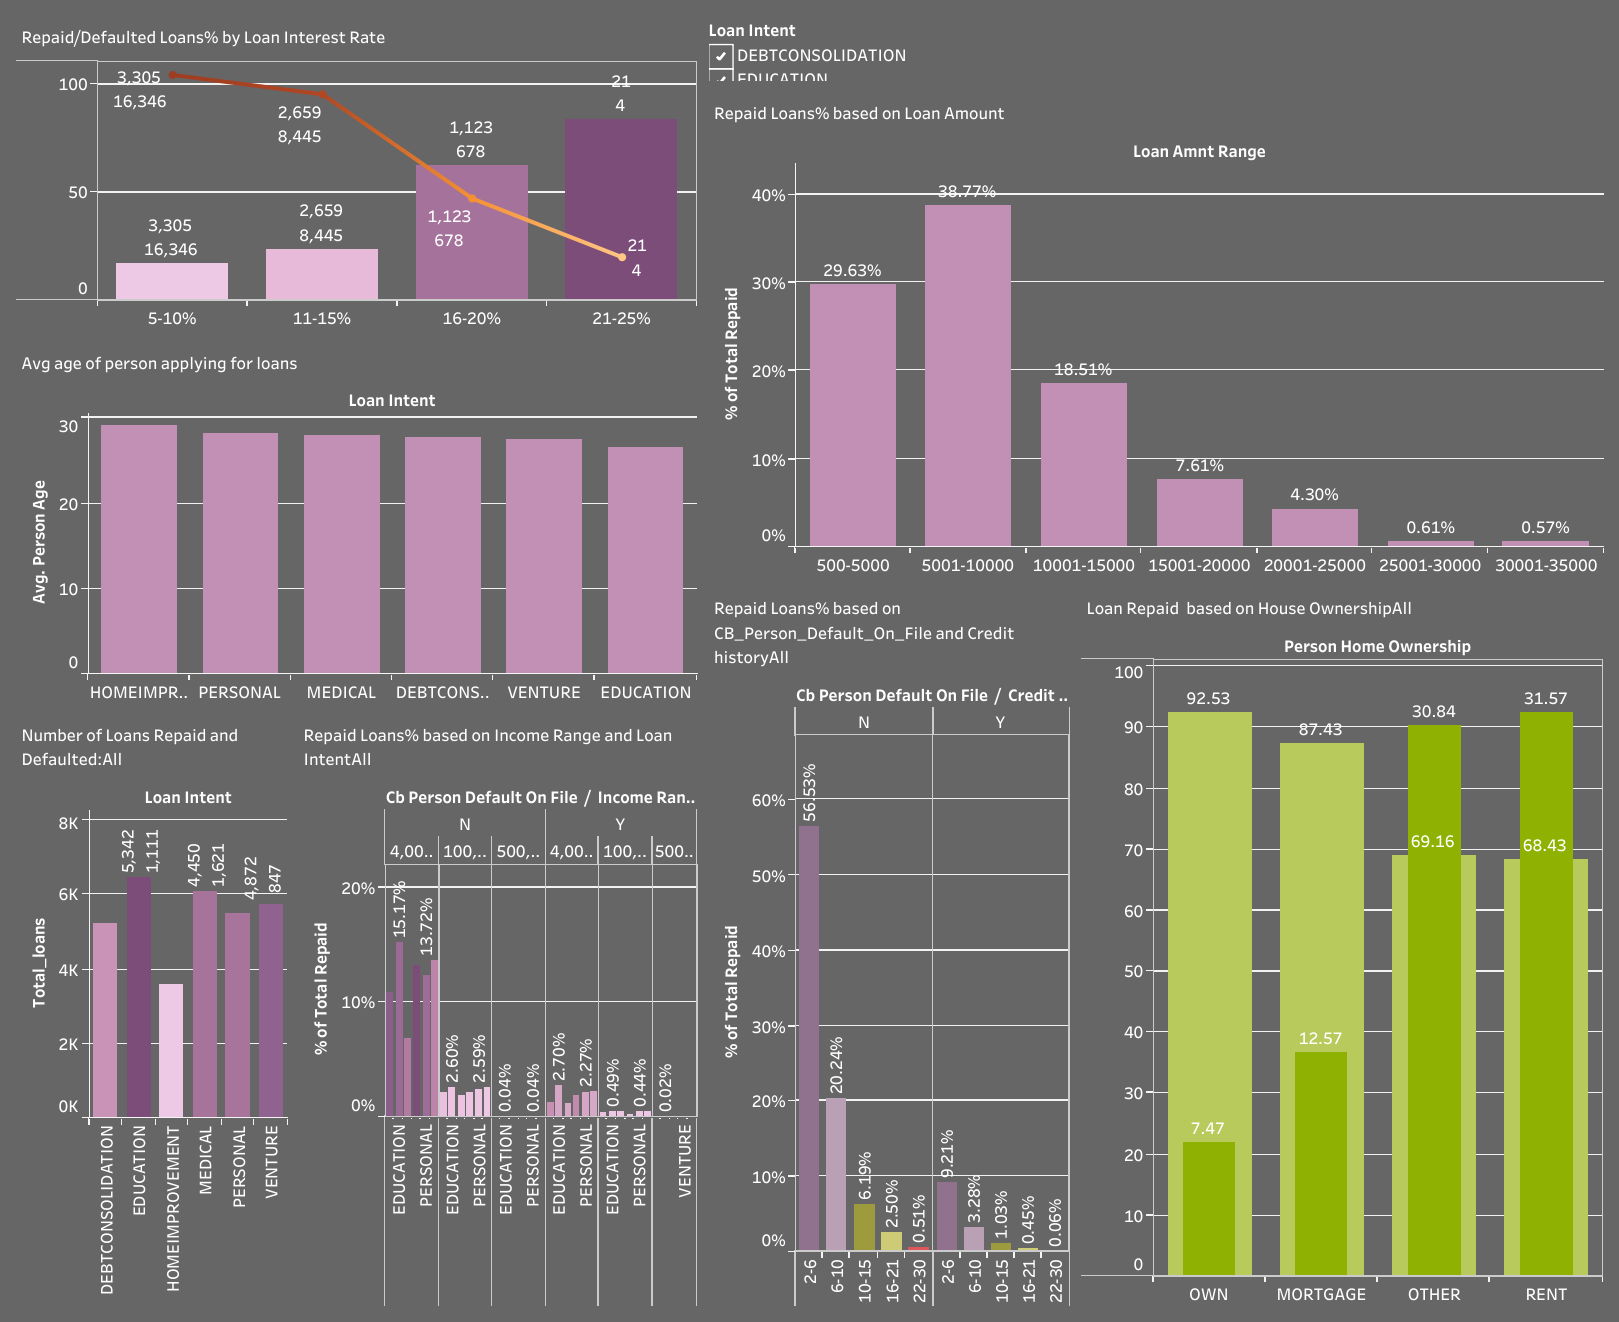

This screenshot's page, from the dashboard's own definition file:
{"tool":"tableau","page":{"name":"Dashboard 1","canvas":[1200,980],"ordinal":0},"visuals":[{"type":"worksheet","title":"Sheet 3","mark":"Bar","rows":["Calculation_1172132188703793746","Calculation_1172132188704395859"],"cols":["Calculation_1172132188705325652"],"box":[8,8,513.3,241]},{"type":"filter","title":"Sheet 4","param":"[federated.1oo56v70xbwndl1279r2p1b3k8ms].[none:loan_intent:nk]","box":[521.3,8,670.7,56.3]},{"type":"worksheet","title":"Sheet 5","mark":"Automatic","rows":["Calculation_1172132188699689549"],"cols":["Calculation_1169176701789724883"],"box":[521.3,64.3,670.7,366.4]},{"type":"worksheet","title":"Sheet 1","mark":"Automatic","rows":["person_age"],"cols":["loan_intent"],"box":[8,249,513.3,275.5]},{"type":"worksheet","title":"Sheet 6","mark":"Automatic","rows":["Calculation_1172132188699689549"],"cols":["cb_person_default_on_file","Calculation_1695253433348715269"],"box":[521.3,430.7,276,541.3]},{"type":"worksheet","title":"Sheet 4","mark":"Bar","rows":["Calculation_1172132188704395859","Calculation_1172132188703793746"],"cols":["person_home_ownership"],"box":[797.3,430.7,394.7,541.3]},{"type":"worksheet","title":"Sheet 2","mark":"Bar","rows":["Calculation_1172132188700611150"],"cols":["loan_intent"],"box":[8,524.5,208.7,447.5]},{"type":"worksheet","title":"Sheet 7","mark":"Automatic","rows":["Calculation_1172132188699689549"],"cols":["cb_person_default_on_file","Calculation_1695253433352413958","loan_intent"],"box":[216.7,524.5,304.5,447.5]}]}

Visuals, with their boxes in screenshot pixels (x1, y1, x2, y2), scaled from the page's 1200x980 canvas onto the 1619x1322 screenshot:
"Sheet 3" worksheet (Bar marks): (11, 11, 703, 336)
"Sheet 4" filter: (703, 11, 1608, 87)
"Sheet 5" worksheet: (703, 87, 1608, 581)
"Sheet 1" worksheet: (11, 336, 703, 708)
"Sheet 6" worksheet: (703, 581, 1076, 1311)
"Sheet 4" worksheet (Bar marks): (1076, 581, 1608, 1311)
"Sheet 2" worksheet (Bar marks): (11, 708, 292, 1311)
"Sheet 7" worksheet: (292, 708, 703, 1311)
